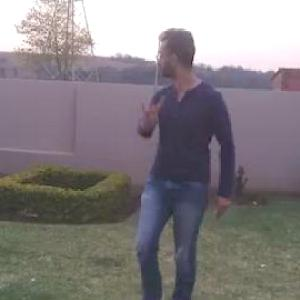takeoff-hand: (130, 89, 171, 137)
